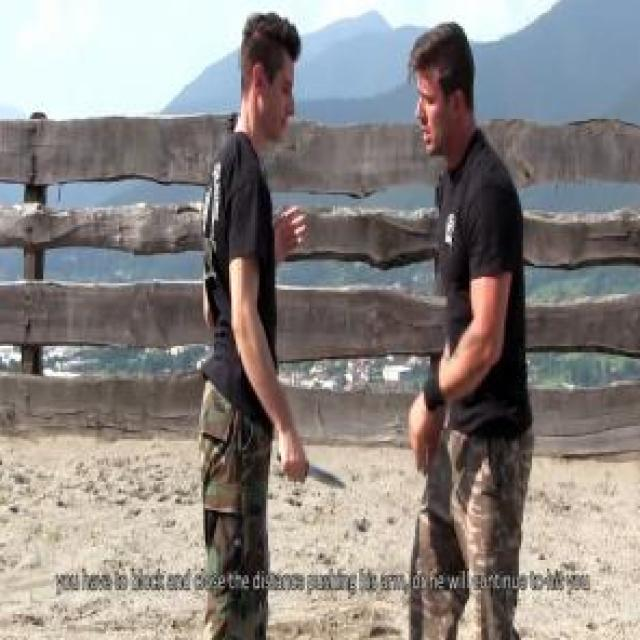knife: (274, 439, 354, 497)
